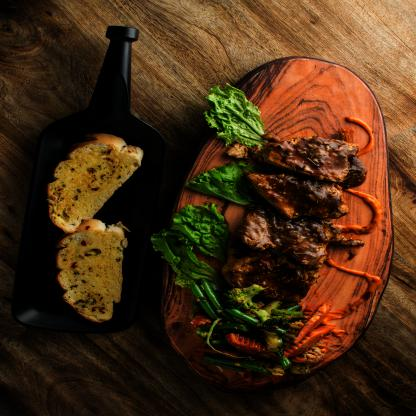Carne: (235, 210, 338, 262), (244, 169, 348, 220), (216, 253, 319, 302), (250, 135, 362, 177)
